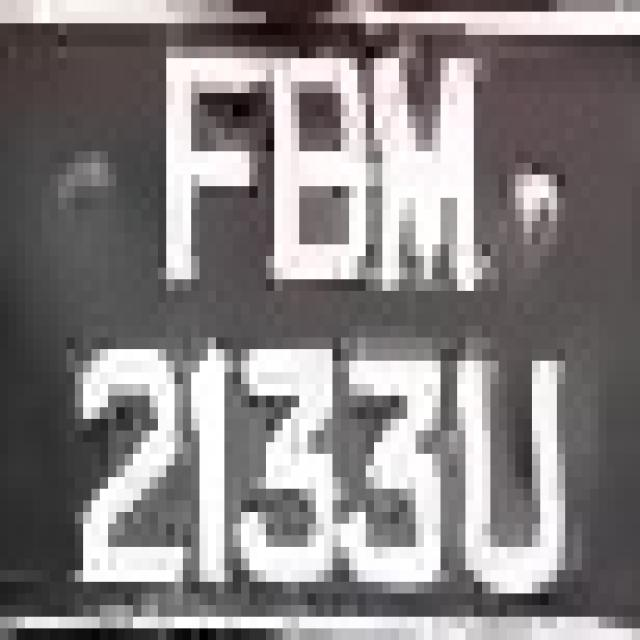1: (166, 349, 258, 605)
2: (67, 338, 191, 605)
3: (332, 338, 449, 594), (216, 338, 341, 570)
B: (266, 24, 366, 338)
F: (125, 0, 258, 291)
M: (357, 70, 507, 291)
U: (449, 326, 582, 605)
